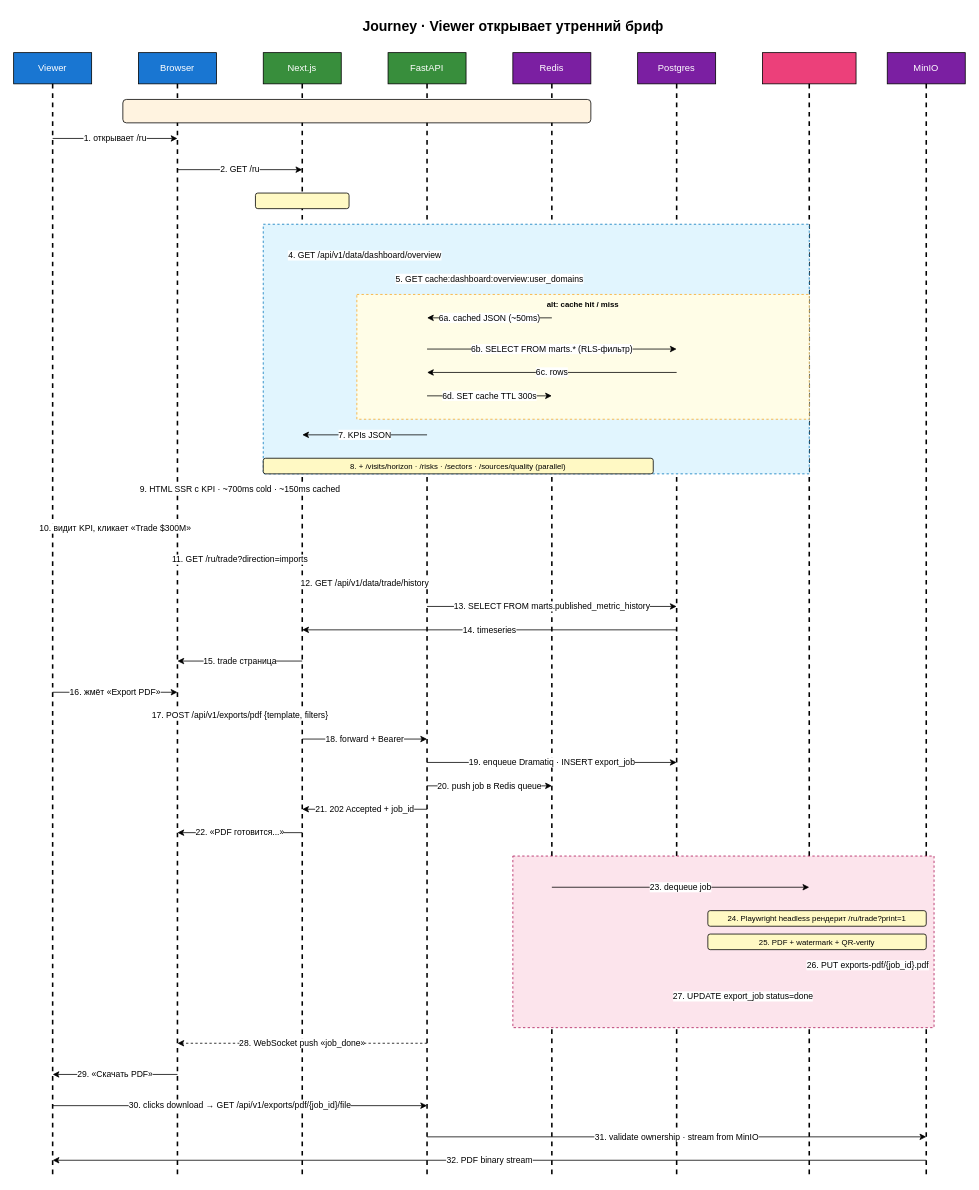
The diagram is 979 pixels wide and 1190 high, and some of its shapes have lost their labels. The shapes that lost their labels are listed below. From the top down, each one's box as (x1, y1, x2, y2) in pixels, then its label:
(762, 52, 856, 84): Worker (PDF)
(122, 99, 591, 123): Авторизация (см. auth-sequence) уже выполнена · session активна
(255, 192, 349, 209): 3. session valid
(262, 223, 809, 474): par · 5 параллельных GET запросов в server components
(512, 855, 934, 1028): background worker · pdf_renderer
